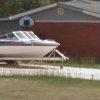Boat: (2, 25, 71, 70)
